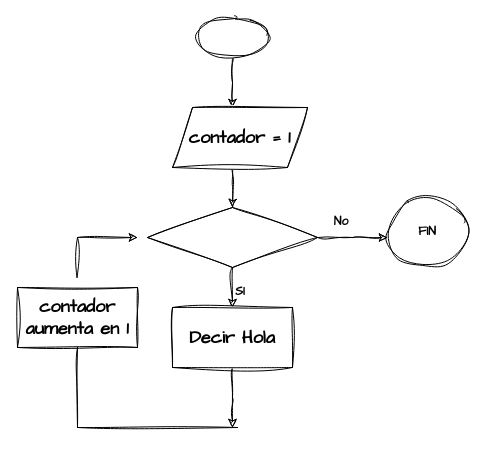
The diagram is 485 pixels wide and 453 high, and some of its shapes have lost their labels. Here are the shapes that lost their labels. From the top down, the centre of each, then its label:
the point at 232,37: inicio
the point at 232,237: contador <=5
